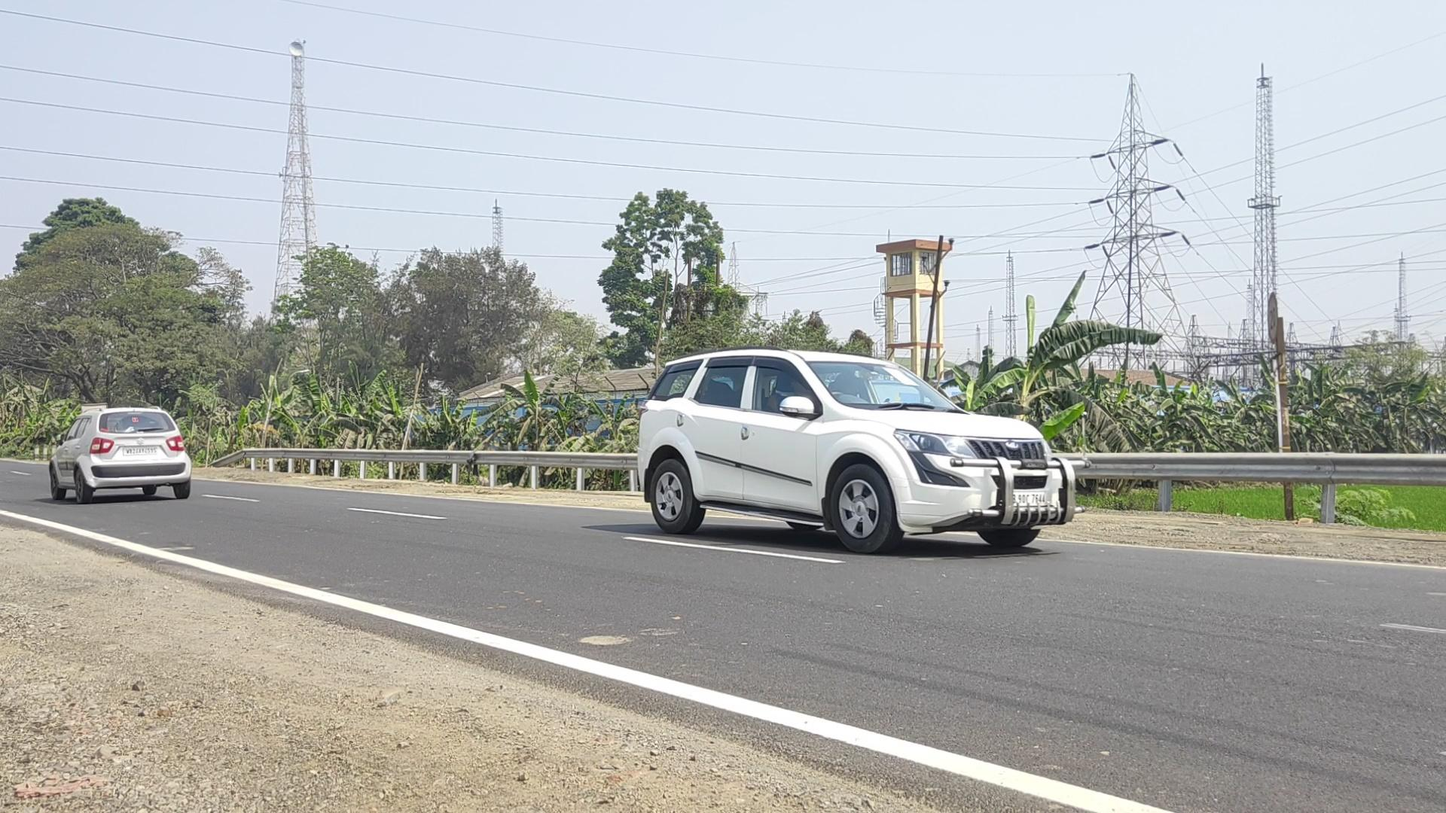car: (638, 346, 1091, 555), (49, 406, 191, 505)
